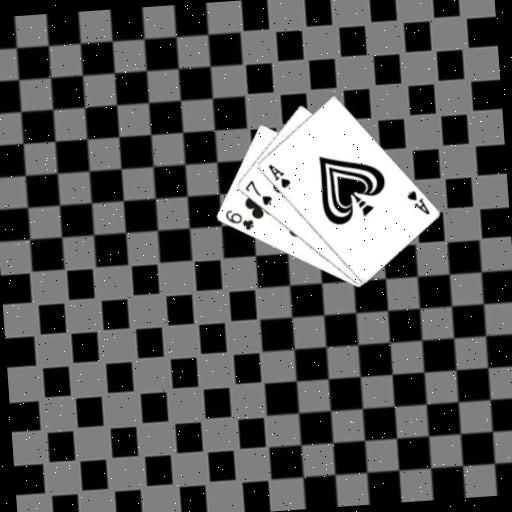6C: (221, 206, 255, 234)
7S: (240, 176, 274, 209)
AS: (403, 186, 432, 218), (264, 160, 292, 192)
